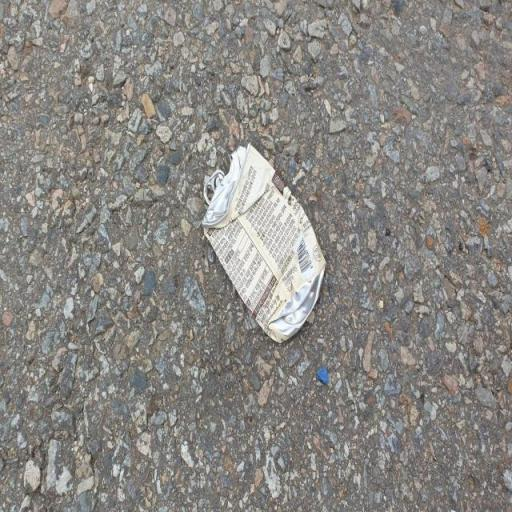metal: (191, 124, 333, 360)
